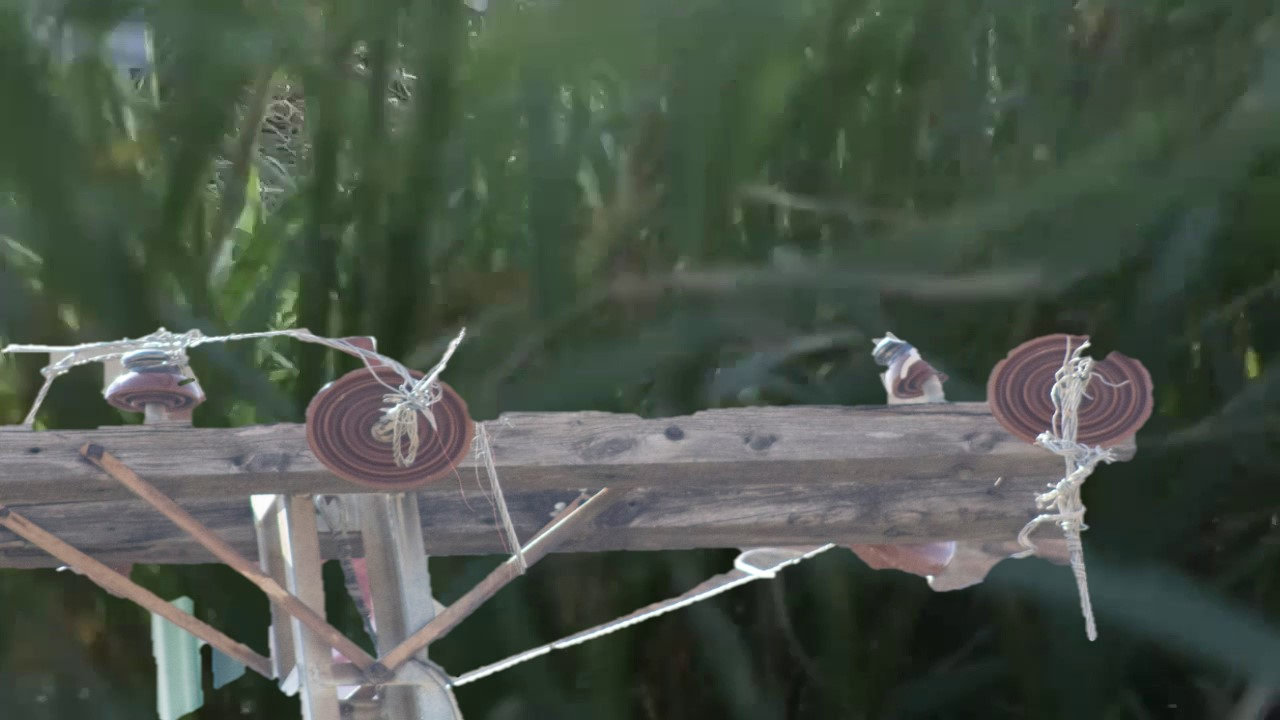defect_pin: (860, 324, 952, 410)
insulator_disc: (300, 359, 481, 492), (987, 327, 1159, 456)
insulator_pin: (97, 340, 210, 414)
